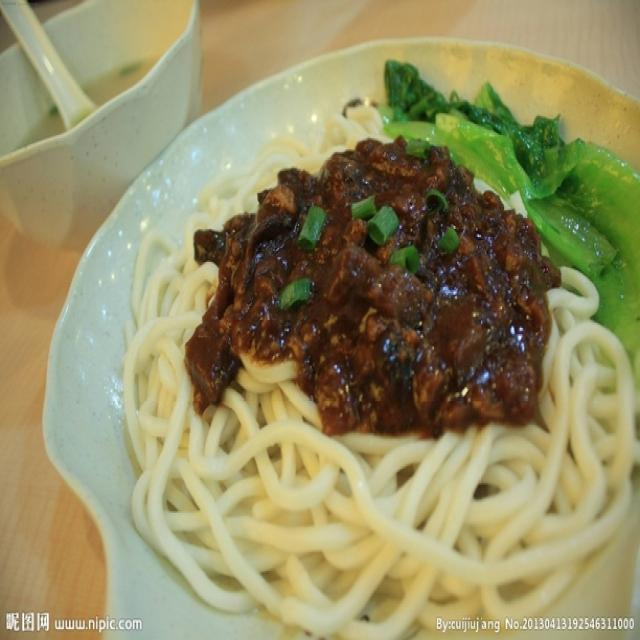面条主食: (61, 55, 632, 621)
